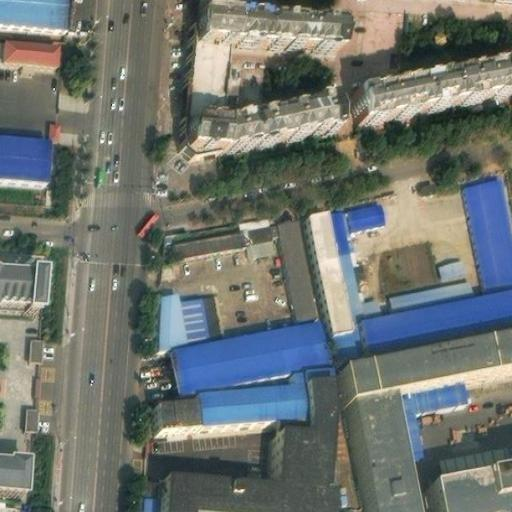building: (356, 284, 512, 359), (340, 331, 512, 399), (171, 313, 328, 383), (328, 201, 380, 365), (362, 59, 512, 114), (166, 465, 340, 512), (161, 366, 311, 420), (347, 391, 412, 512), (189, 95, 343, 145), (389, 376, 470, 456), (280, 371, 338, 475), (202, 5, 345, 46), (187, 0, 232, 124), (307, 204, 351, 327), (466, 173, 512, 289), (276, 211, 320, 318), (387, 255, 472, 307), (171, 216, 280, 256), (431, 462, 512, 512), (443, 442, 512, 475), (0, 261, 47, 308), (179, 290, 223, 339), (159, 286, 187, 344), (346, 194, 388, 228), (0, 452, 30, 490), (23, 402, 42, 432), (26, 337, 43, 365)
